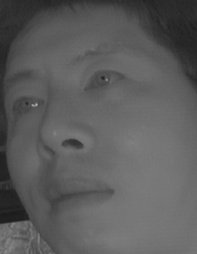eye: (84, 68, 129, 96), (9, 92, 46, 121)
mouth: (39, 172, 113, 223)
